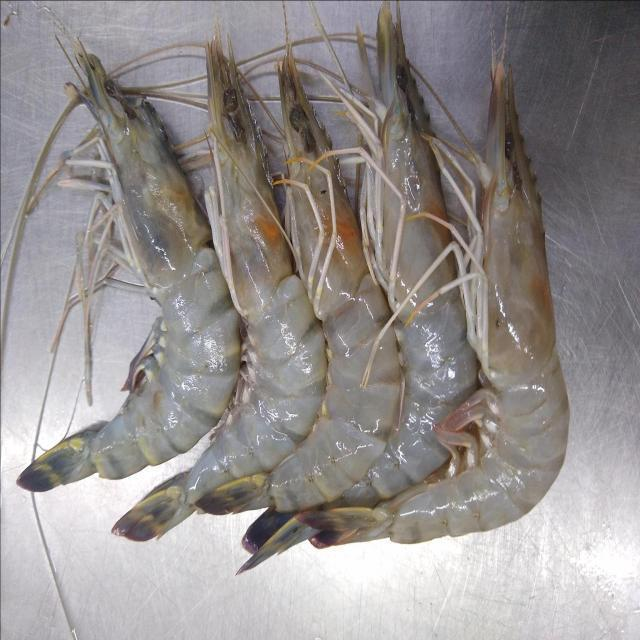shrimp: (115, 23, 326, 540), (16, 40, 240, 492), (388, 62, 569, 542), (245, 43, 401, 513), (334, 2, 478, 507)
